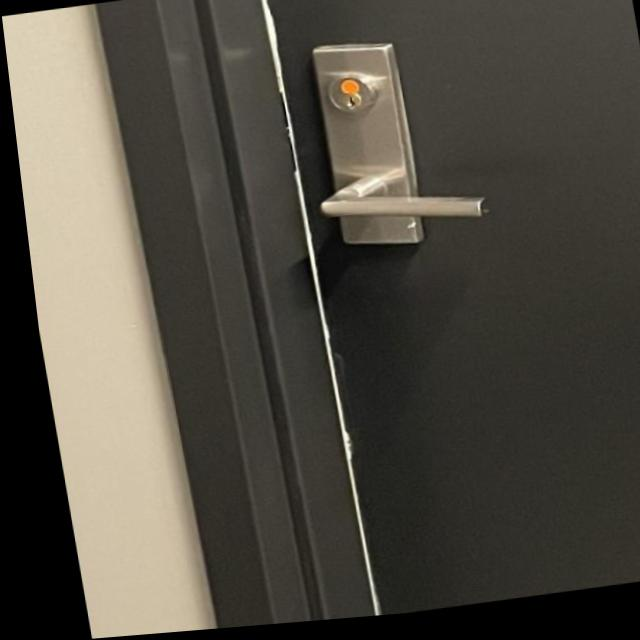door_handle: (290, 151, 504, 265)
